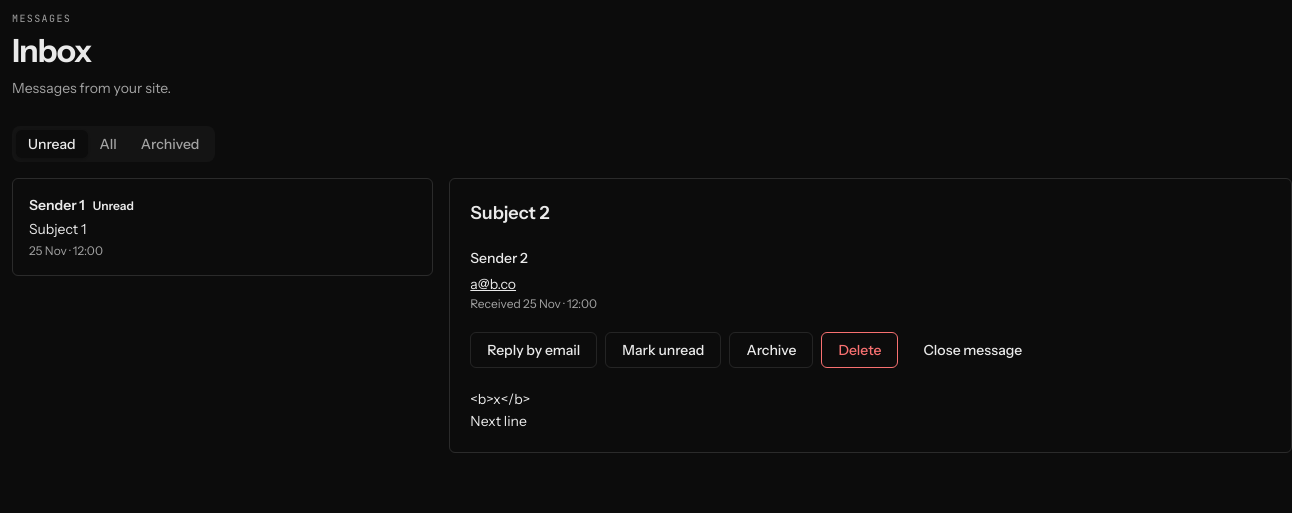
messages inbox › failed archive retains selection and can be retried
Later steps or results of the test are not shown.
Click the button "Archive" at [771, 350], box [729, 332, 813, 368]
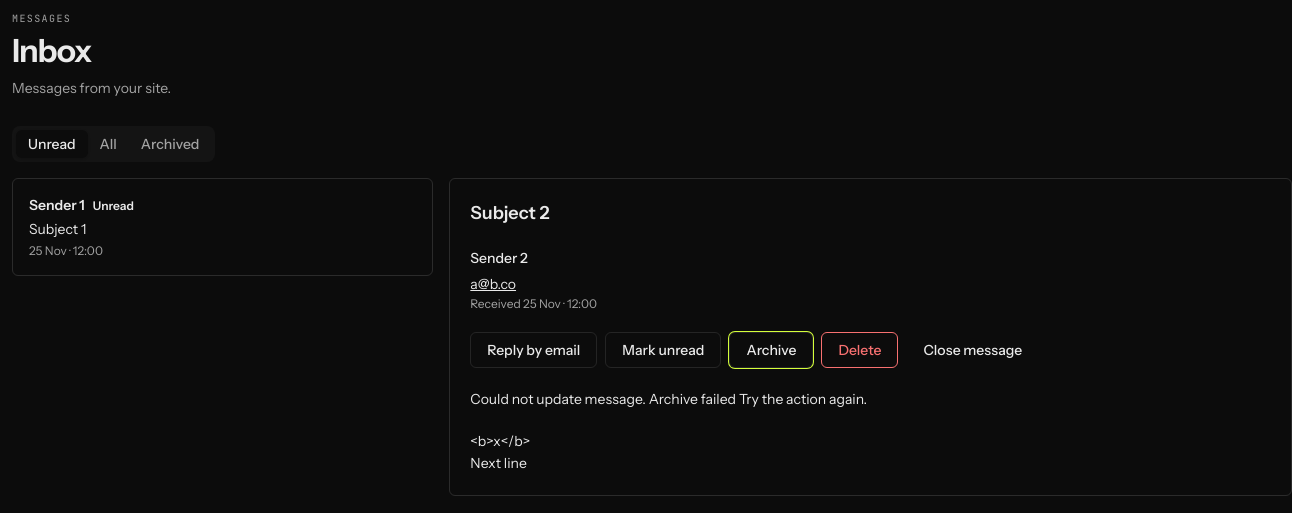
Expected: the link "Reply by email" is shown, [470, 332, 597, 368]
Expected: the message shows "Archive failed", [649, 390, 736, 408]
